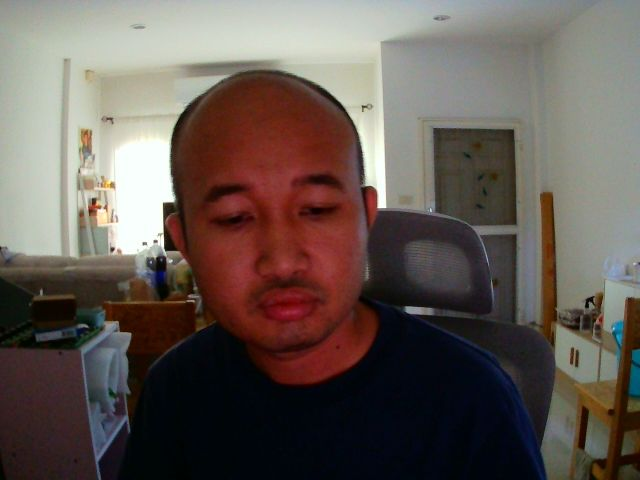face: (160, 69, 374, 350)
